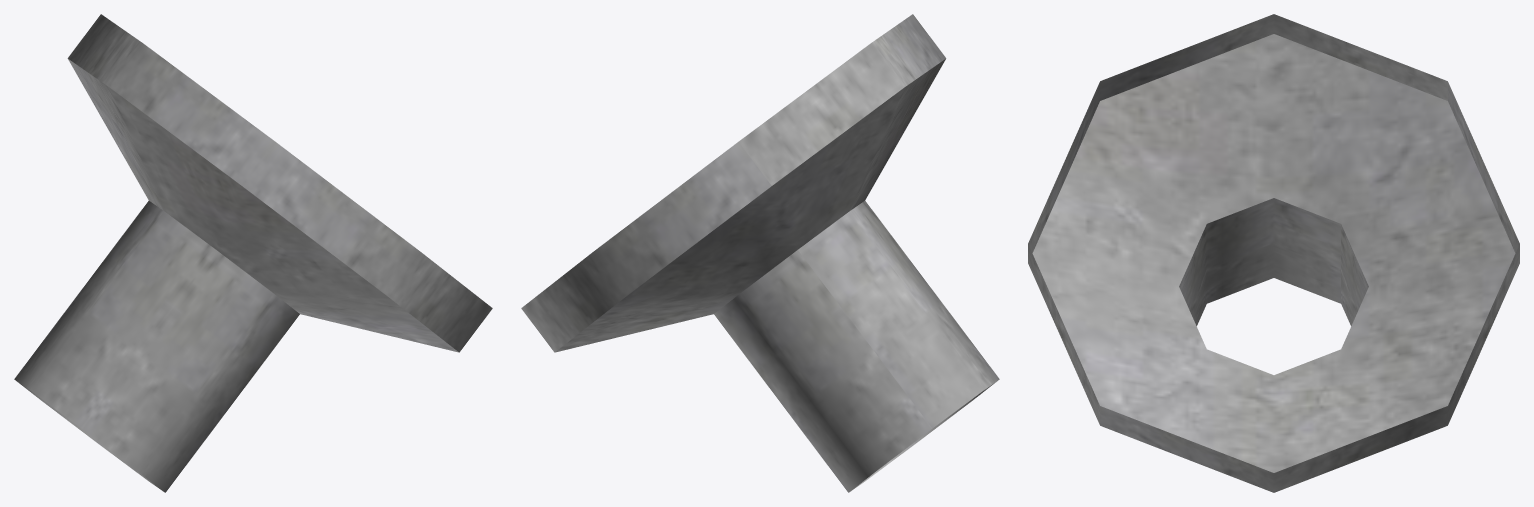
3 views of the same model, side by side, from view 1: azimuth 30°, elevation 25°; view 2: azimuth 150°, elevation 25°; view 3: azimuth 270°, elevation 25° (orthographic).
Visible parts, largest first — view 1: B_03; view 2: B_03; view 3: B_03.
Part boxes in pixels (x1,y1,x2,y2): B_03: (14,14,492,492); B_03: (521,14,999,492); B_03: (1028,14,1519,492).
Bounding box in the file's own units: 0.0922 × 0.0923 × 0.0938.
1 material, 1 textured.
